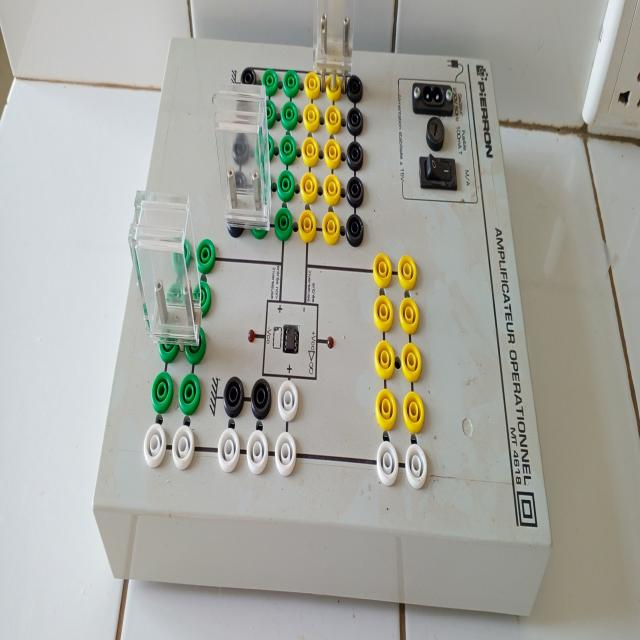Operational Amplifier Board: (83, 12, 550, 608)
